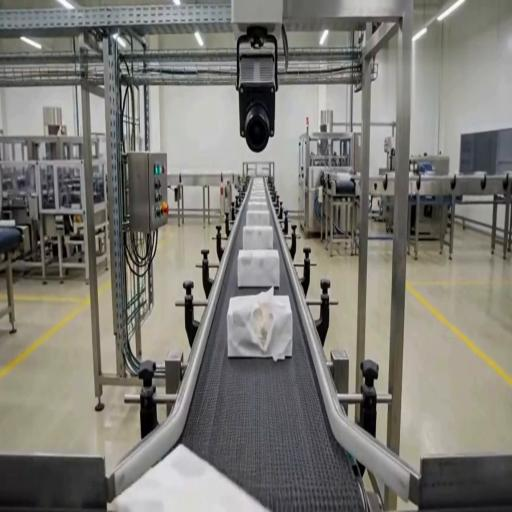defective: (113, 442, 275, 510), (227, 288, 292, 360)
good: (236, 248, 281, 290), (242, 225, 274, 252), (245, 209, 271, 226), (246, 192, 268, 210)
